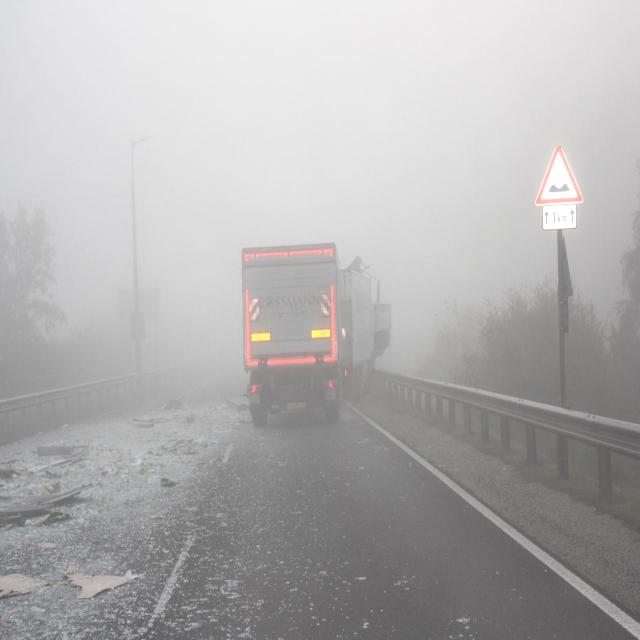Truck: (233, 202, 352, 435)
